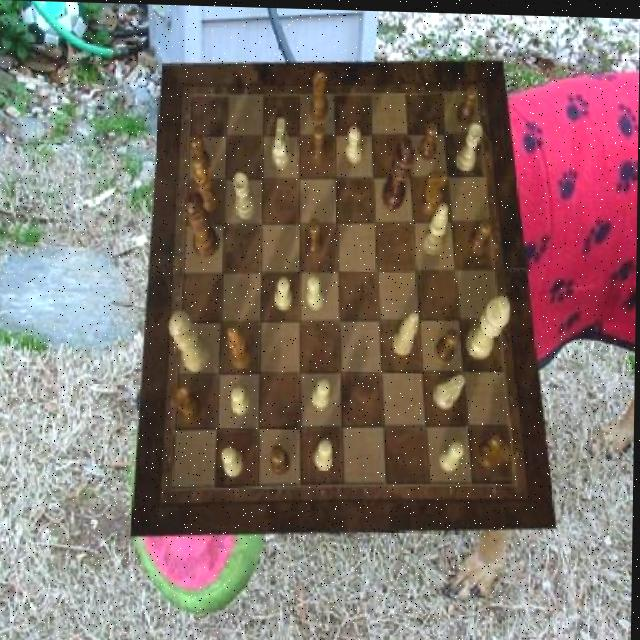bishop: (192, 155, 218, 210), (227, 324, 252, 367)
black-bishop: (382, 134, 416, 209)
black-king: (478, 430, 514, 468), (422, 167, 449, 213)
black-knight: (466, 217, 491, 253), (456, 81, 476, 123), (436, 327, 461, 360), (418, 119, 439, 158), (191, 132, 211, 171), (306, 216, 324, 254), (311, 123, 328, 161), (272, 443, 292, 475)
black-pawn: (183, 192, 221, 259)
black-queen: (175, 386, 203, 424), (310, 69, 329, 120)
black-rook: (423, 199, 449, 253), (393, 307, 420, 354)
white-bishop: (465, 291, 510, 358)
white-king: (434, 370, 465, 407), (271, 115, 291, 167)
white-knight: (439, 438, 464, 471), (223, 444, 246, 477), (344, 123, 362, 161), (315, 436, 335, 468), (307, 272, 325, 307), (275, 275, 292, 310), (313, 376, 331, 408), (233, 383, 251, 414)
white-pawn: (168, 310, 212, 371)
white-queen: (455, 120, 482, 170), (232, 172, 255, 220)
